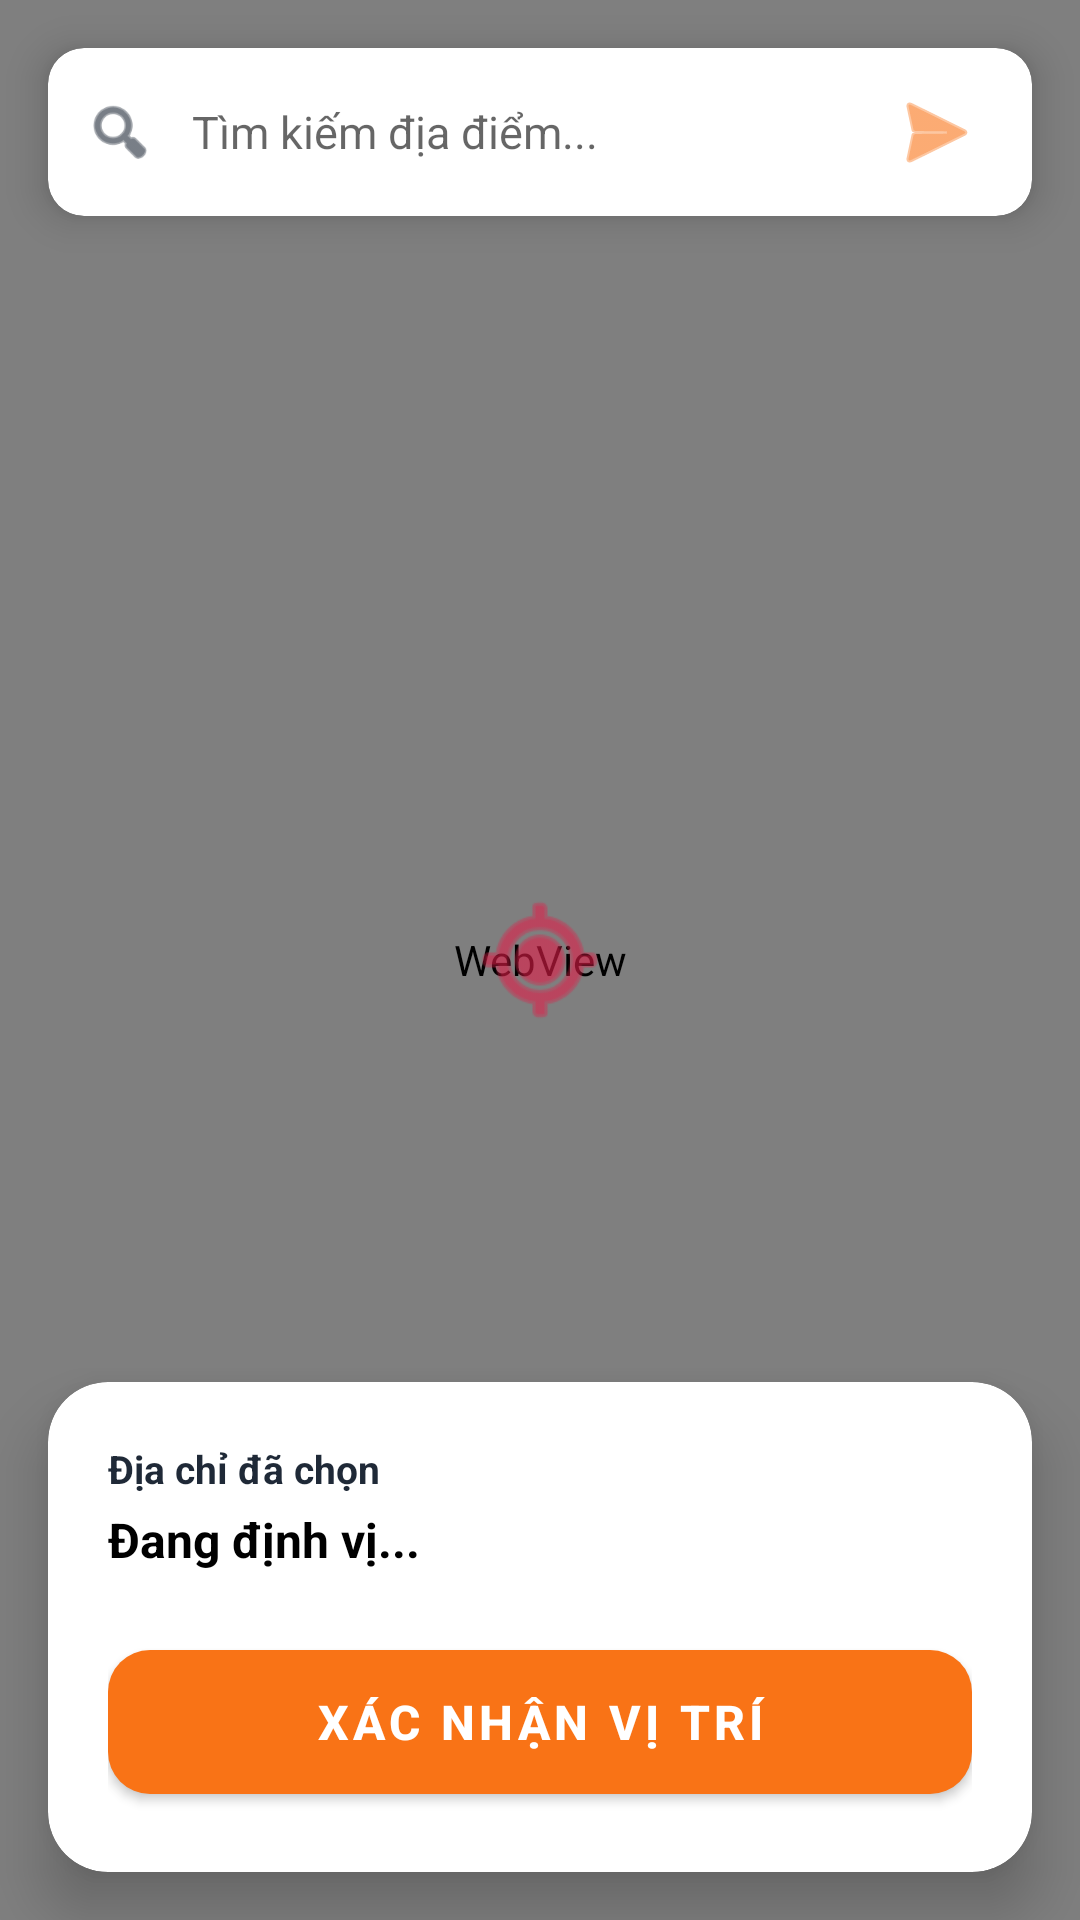

Point at icon controls on the screen. Image size 1080px x 1920px, points as [x,y].
search: [120,132]
send: [937,132]
